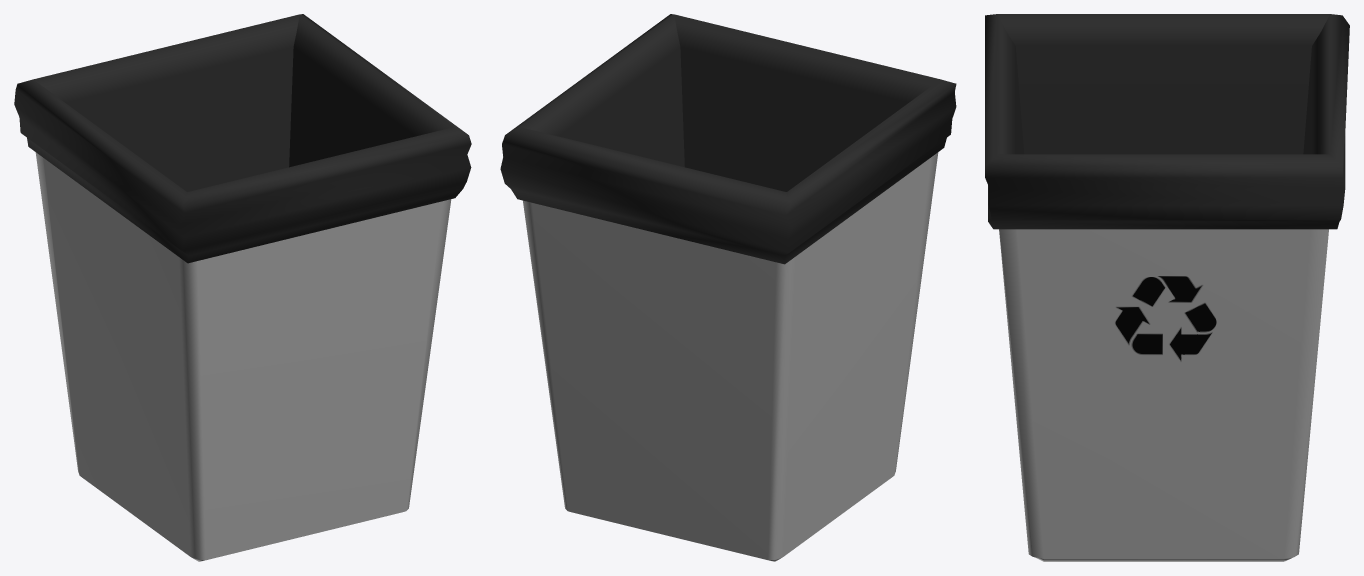
File: Trashcan.fbx
The picture shows the model from 3 angles, left to right: view 1: azimuth 30°, elevation 25°; view 2: azimuth 150°, elevation 25°; view 3: azimuth 270°, elevation 25°; orthographic projection. The views are drawn at different scales.
Visible parts, largest first — view 1: pCube3; view 2: pCube3; view 3: pCube3.
Boxes of the visible parts, bbox=[...] form: pCube3: bbox=[14, 14, 471, 561]; pCube3: bbox=[500, 14, 956, 561]; pCube3: bbox=[985, 14, 1349, 561].
Size of the model in its own units: 1.43 by 1.84 by 1.43.
Materials: 1 (1 with a texture image).
